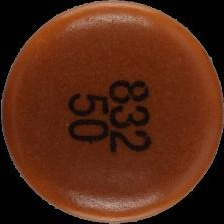53808-0925: (0, 0, 224, 224)
